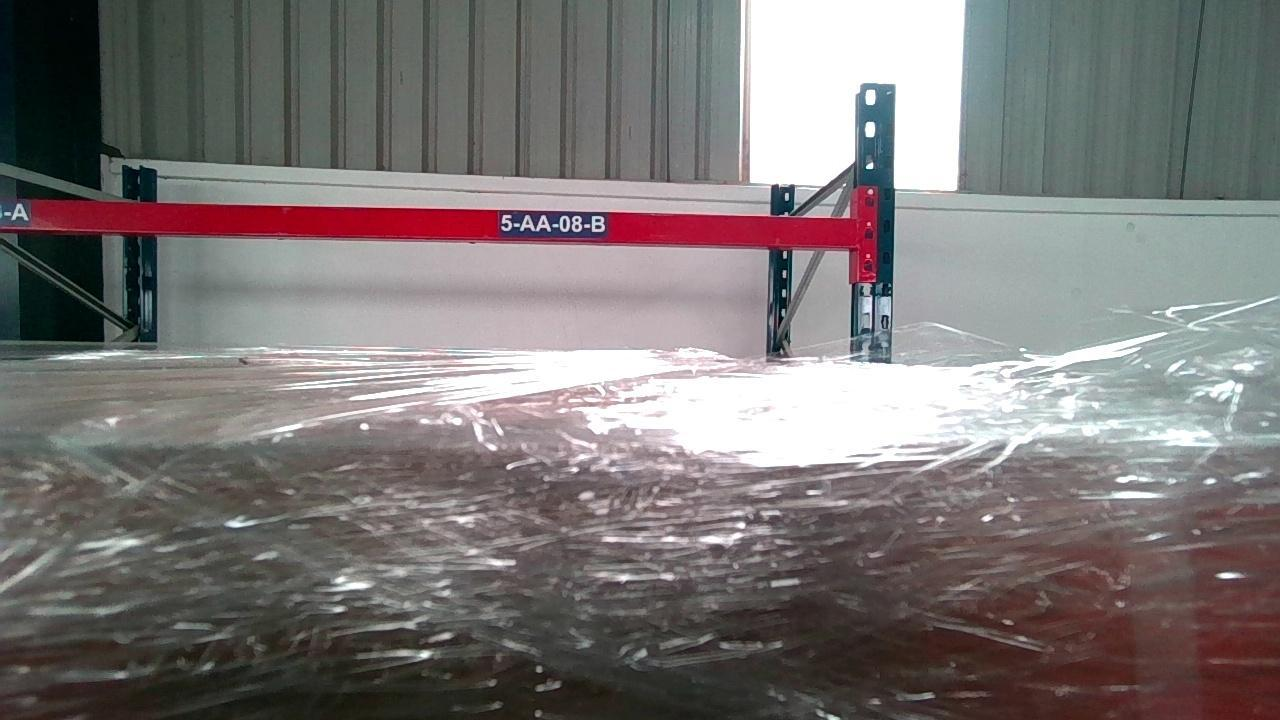h_rack: (0, 196, 859, 247)
